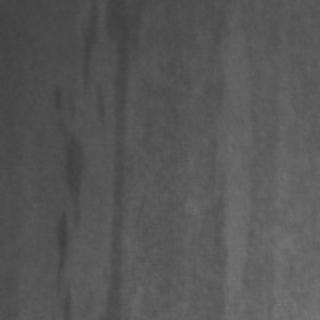inclusion: (88, 1, 132, 316), (188, 16, 230, 316), (42, 85, 84, 291)
